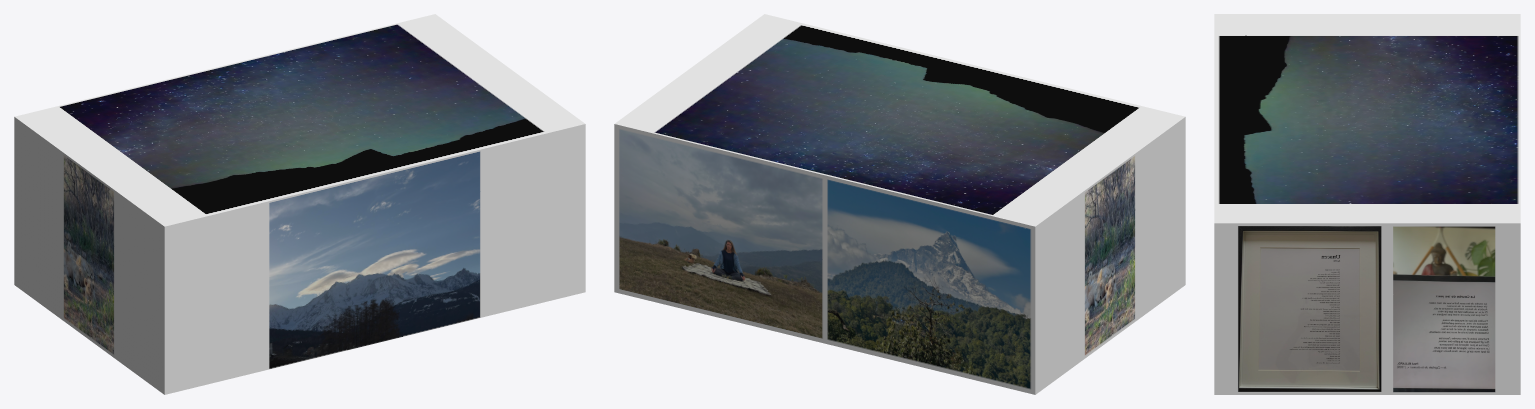
File: 1778696005000_pealoun.glb
3 views of the same model, side by side, from view 1: azimuth 30°, elevation 25°; view 2: azimuth 150°, elevation 25°; view 3: azimuth 270°, elevation 25° (orthographic).
Visible parts, largest first — view 1: Pealoun; view 2: Pealoun; view 3: Pealoun.
Part boxes in pixels (<box>): Pealoun: <box>14,14,585,394</box>; Pealoun: <box>614,14,1185,394</box>; Pealoun: <box>1214,14,1520,394</box>.
Bounding box in the file's own units: 1.62 × 0.618 × 1.
Materials: 6 (6 with a texture image).
